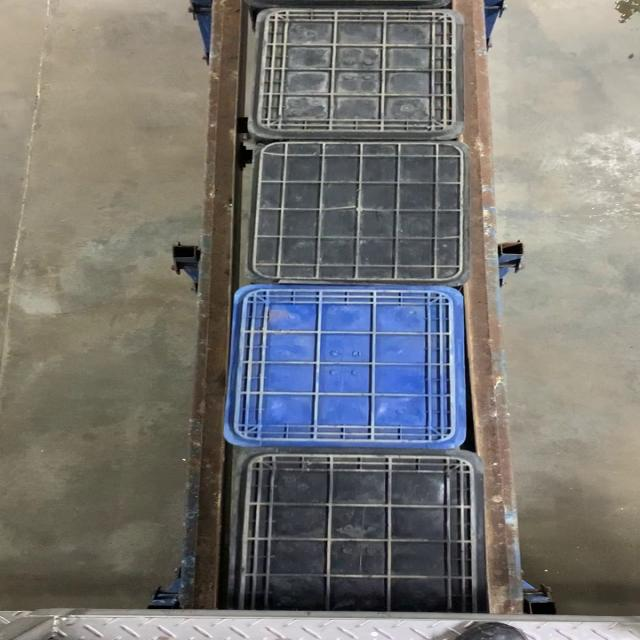Box: (224, 288, 466, 448), (247, 144, 469, 286), (248, 6, 467, 140)
